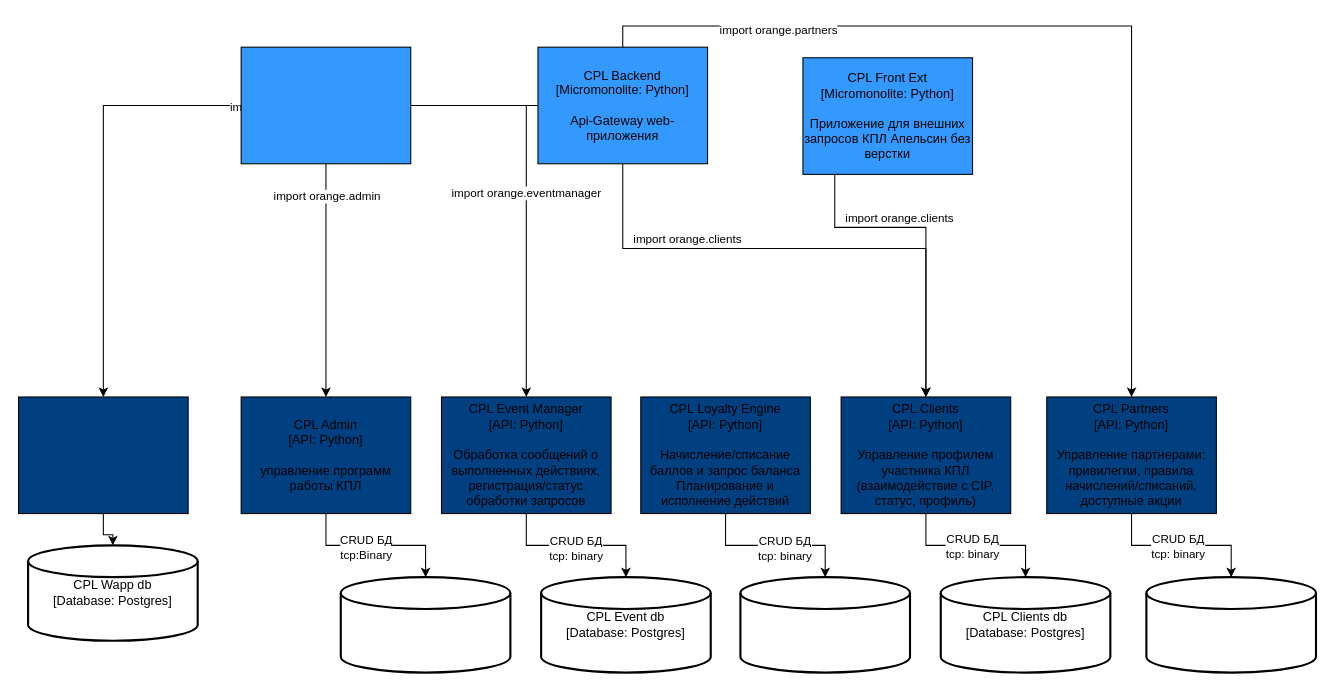
This 1336x692 diagram has some shape labels left out. Each missing label, with the box of its shape:
CPL Admin backend [Micromonolite: Python] Api-Gateway web-приложения: (240, 46, 411, 164)
CPL Admin db [Database: Postgres]: (339, 576, 511, 673)
CPL Loyalty db [Database: Postgres]: (739, 576, 911, 673)
CPL Partners db [Database: Postgres]: (1145, 576, 1317, 673)
CPL Wapp [API: Python] Работа веб-приложения: (17, 396, 188, 514)
